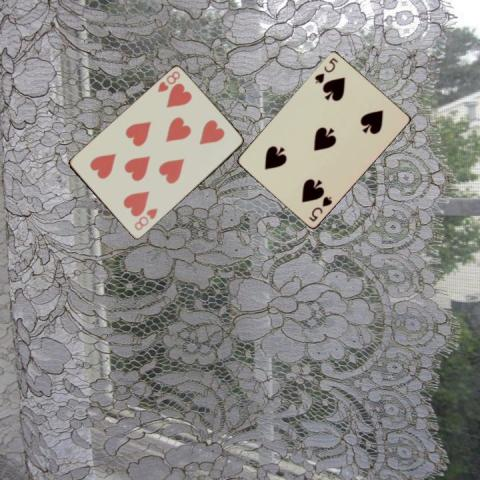5s: (306, 193, 334, 223), (312, 55, 340, 84)
8h: (132, 205, 160, 232), (154, 68, 182, 94)
